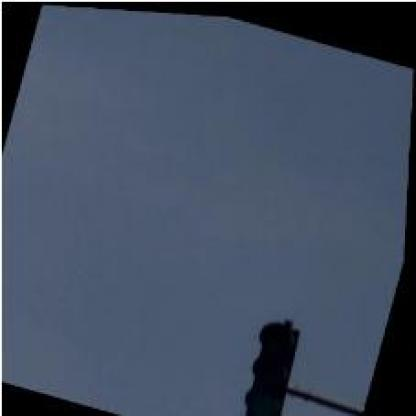green: (238, 315, 308, 414)
